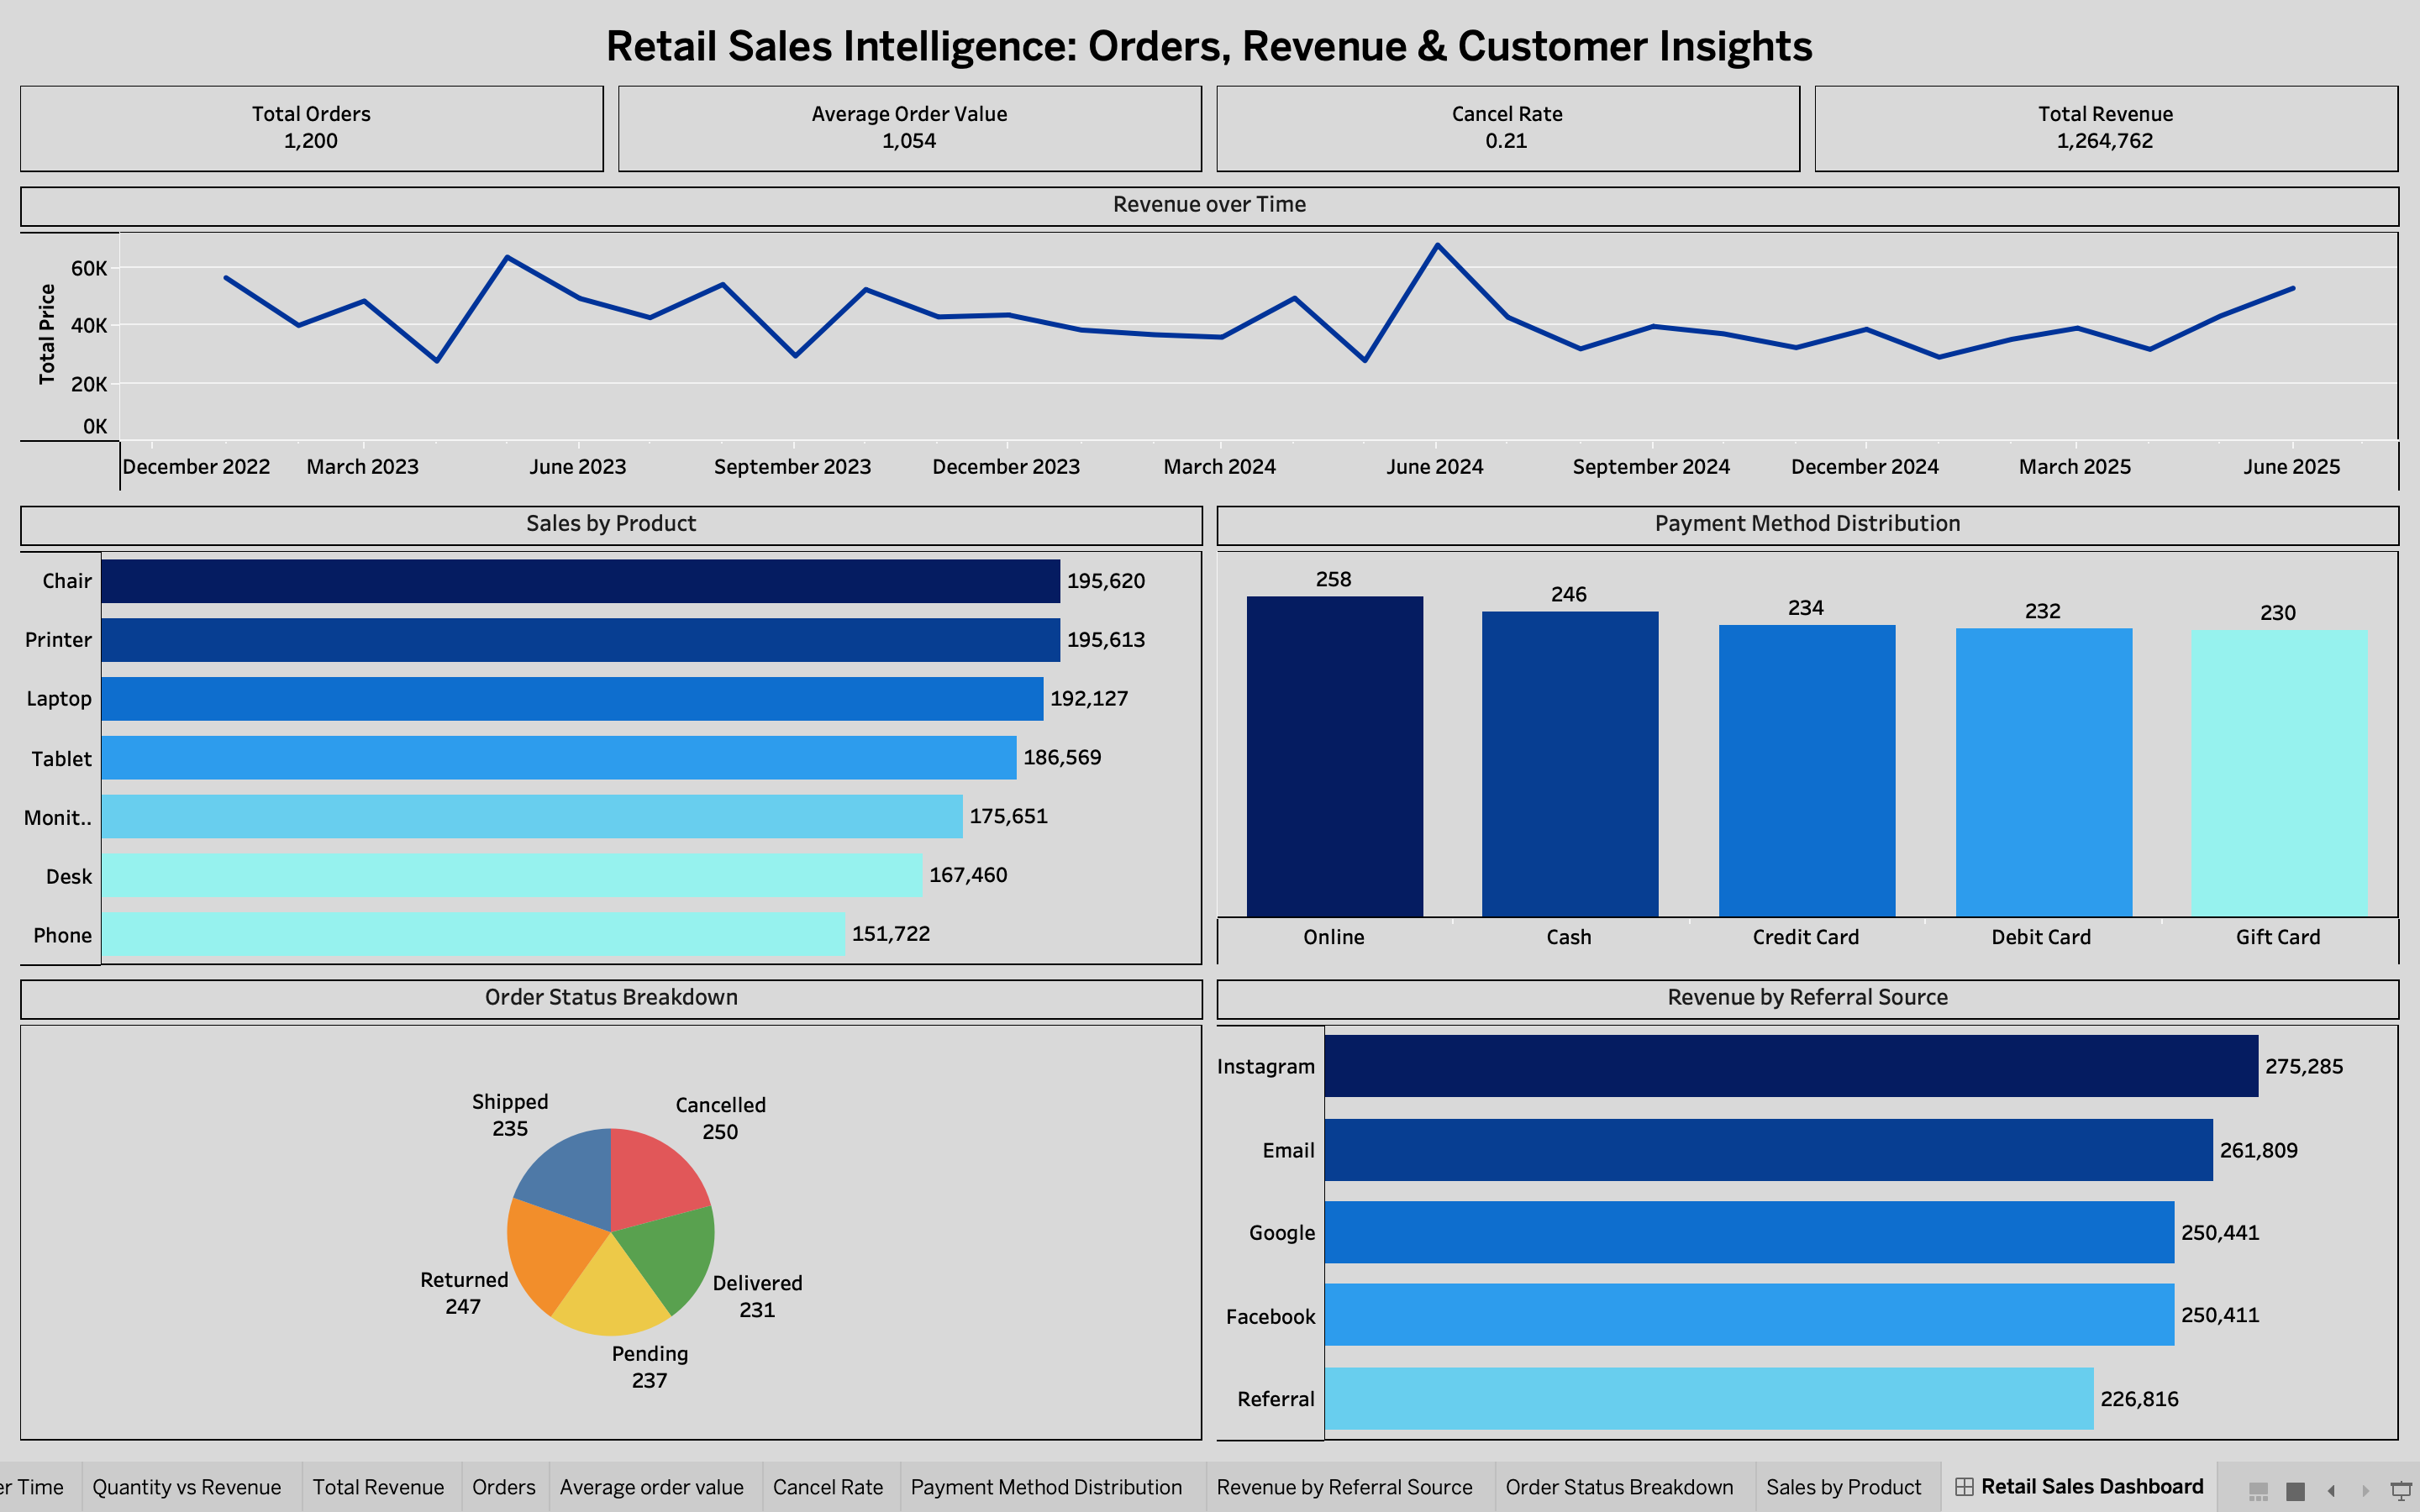

What the dashboard file says about the page in this screenshot:
{"tool":"tableau","page":{"name":"Retail Sales Dashboard","canvas":[1000,1000],"units":"permille","ordinal":0},"visuals":[{"type":"title","box":[5.6,9.2,988.9,44.8]},{"type":"worksheet","title":"Orders","mark":"Automatic","box":[5.6,54,247.2,68.6]},{"type":"worksheet","title":"Average order value","mark":"Automatic","box":[252.8,54,247.2,68.6]},{"type":"worksheet","title":"Cancel Rate","mark":"Automatic","box":[500,54,247.2,68.6]},{"type":"worksheet","title":"Total Revenue","mark":"Automatic","box":[747.2,54,247.2,68.6]},{"type":"worksheet","title":"Revenue over Time","mark":"Automatic","rows":["TotalPrice"],"cols":["Date"],"box":[5.6,122.6,988.9,218.8]},{"type":"worksheet","title":"Sales by Product","mark":"Automatic","rows":["Product"],"cols":["TotalPrice"],"box":[5.6,341.4,494.4,324.1]},{"type":"worksheet","title":"Payment Method Distribution","mark":"Automatic","rows":["OrderID"],"cols":["PaymentMethod"],"box":[500,341.4,494.4,324.1]},{"type":"worksheet","title":"Order Status Breakdown","mark":"Pie","box":[5.6,665.5,494.4,325.3]},{"type":"worksheet","title":"Revenue by Referral Source","mark":"Automatic","rows":["ReferralSource"],"cols":["TotalPrice"],"box":[500,665.5,494.4,325.3]}]}

Visuals, with their boxes on the dashboard's canvas, which has no fixed pixel size, in thousandths of its width and height (x1, y1, x2, y2). These are canvas units, not pixel positions in the 2420x1512 screenshot, which may show the page scaled, cropped or inside an application window:
title: <bbox>6, 9, 994, 54</bbox>
"Orders" worksheet: <bbox>6, 54, 253, 123</bbox>
"Average order value" worksheet: <bbox>253, 54, 500, 123</bbox>
"Cancel Rate" worksheet: <bbox>500, 54, 747, 123</bbox>
"Total Revenue" worksheet: <bbox>747, 54, 994, 123</bbox>
"Revenue over Time" worksheet: <bbox>6, 123, 994, 341</bbox>
"Sales by Product" worksheet: <bbox>6, 341, 500, 666</bbox>
"Payment Method Distribution" worksheet: <bbox>500, 341, 994, 666</bbox>
"Order Status Breakdown" worksheet (Pie marks): <bbox>6, 666, 500, 991</bbox>
"Revenue by Referral Source" worksheet: <bbox>500, 666, 994, 991</bbox>
